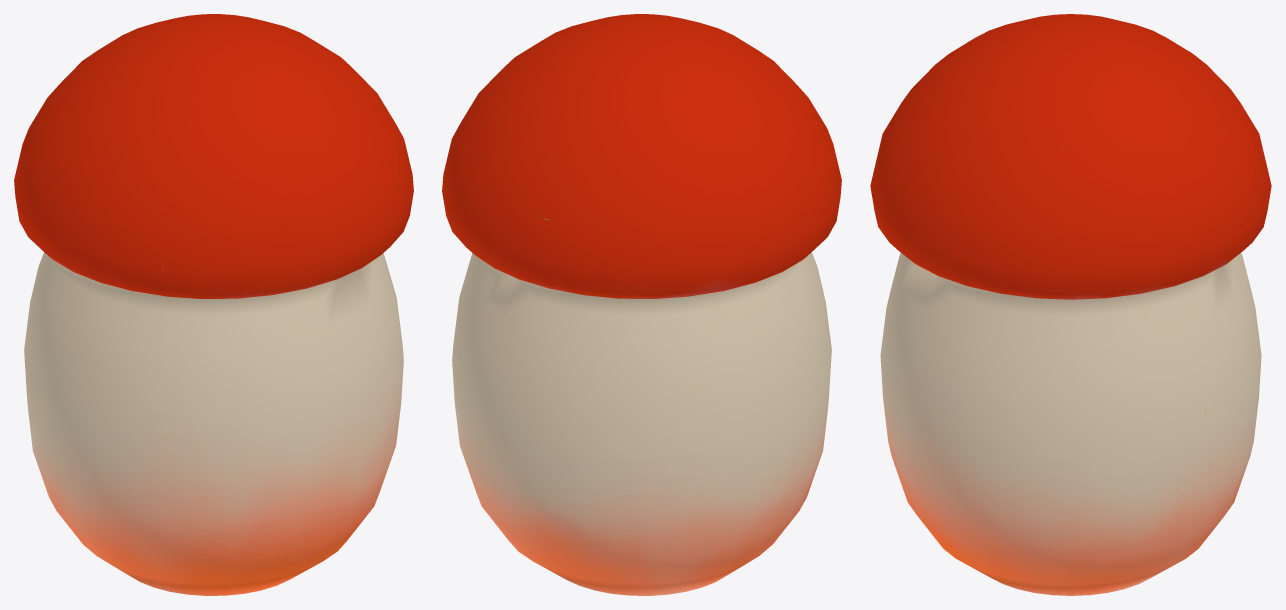
Rendered from pearl_mushroom.glb.
3 views of the same model, side by side, from view 1: azimuth 30°, elevation 25°; view 2: azimuth 150°, elevation 25°; view 3: azimuth 270°, elevation 25° (orthographic).
Visible parts, largest first — view 1: Sphere.007; view 2: Sphere.007; view 3: Sphere.007.
Boxes of the visible parts, x1,y1,x2,y2 form: Sphere.007: (14, 14, 413, 595); Sphere.007: (442, 14, 841, 595); Sphere.007: (870, 14, 1271, 595).
Bounding box in the file's own units: 1.67 × 2.4 × 1.67.
Materials: 1 (1 with a texture image).
